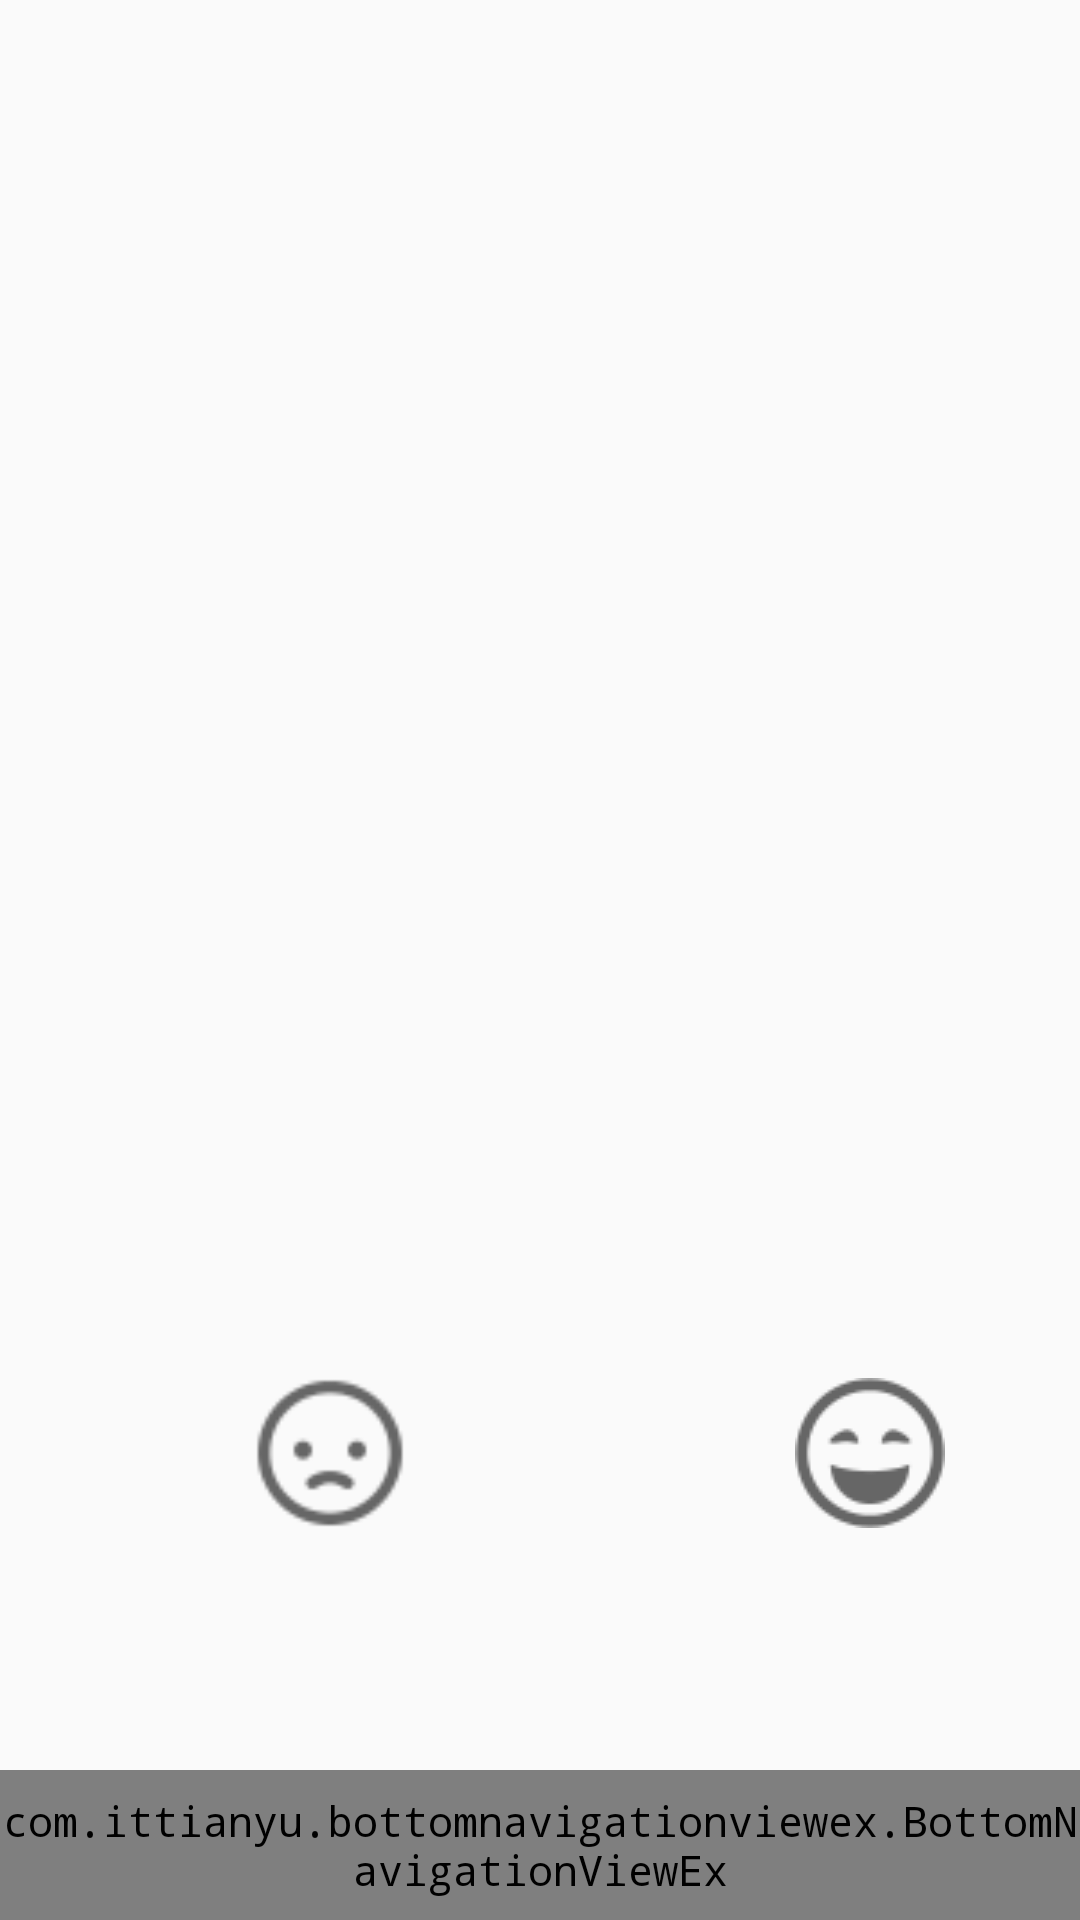

Where to tap for icons on this 1080×1920 app screen, as point (x, y):
happy: point (870, 1453)
sad: point (330, 1453)
